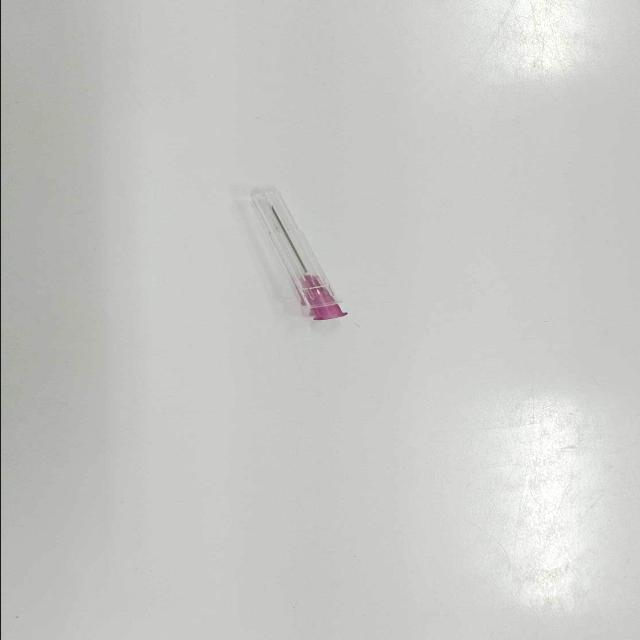General: (294, 272, 349, 322)
Sharps: (248, 187, 350, 321)
